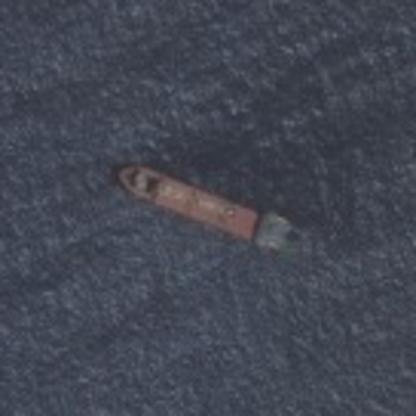ship: (102, 158, 310, 258)
